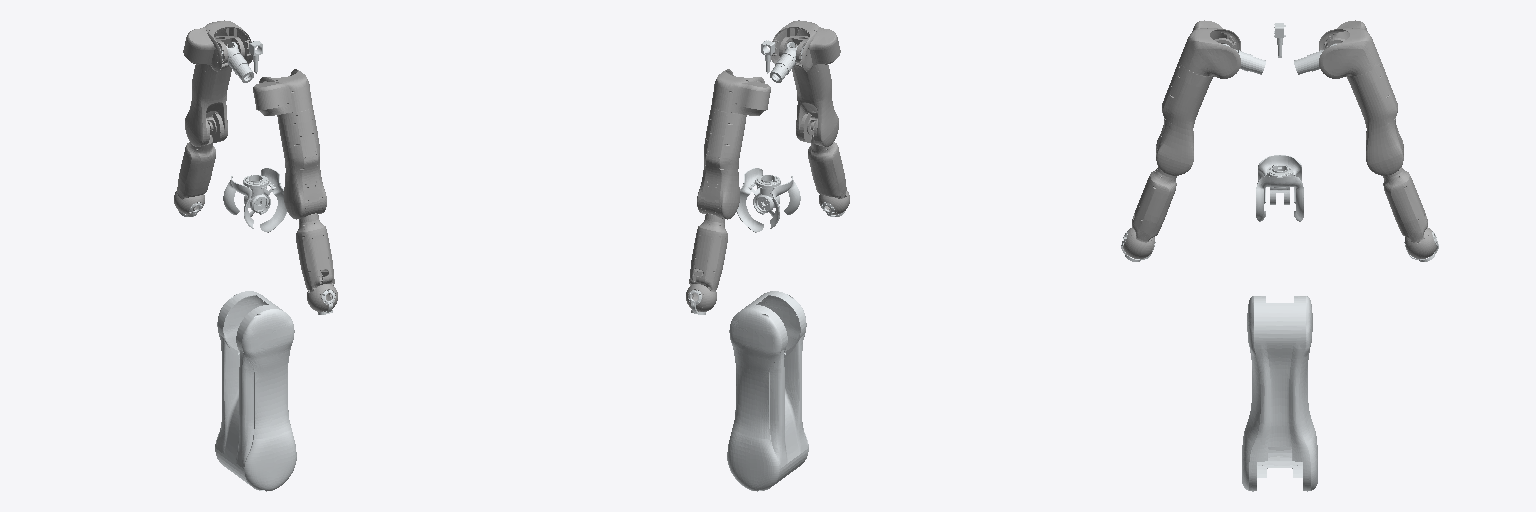
robot.urdf — astribot_whole_body:
<?xml version="1.0" ?>
<!-- =================================================================================== -->
<!-- |    This document was autogenerated by xacro from astribot_s1_whole_body_without_wheel.xacro | -->
<!-- |    EDITING THIS FILE BY HAND IS NOT RECOMMENDED                                 | -->
<!-- =================================================================================== -->
<!-- run: xacro astribot_s1_whole_body.xacro -o astribot_s1_whole_body.urdf to generate the following .urdf file -->
<robot name="astribot_whole_body">
  <link name="astribot_torso_base">
    <inertial>
      <origin rpy="0 0 0" xyz="-0.062784 0.007017 0.035375"/>
      <mass value="39.24781"/>
      <inertia ixx="1.071997" ixy="0.015889" ixz="-0.058447" iyy="1.218431" iyz="-0.002015" izz="1.489411"/>
    </inertial>
    <visual>
      <origin rpy="0 0 0" xyz="0 0 0"/>
      <geometry>
        <mesh filename="s1_torso/astribot_torso_base_link.STL"/>
      </geometry>
      <material name="">
        <color rgba="0.79216 0.81961 0.93333 1"/>
      </material>
    </visual>
    <collision>
      <origin rpy="0 0 0" xyz="0 0 -0.05"/>
      <geometry>
        <cylinder length="0.1" radius="0.3"/>
      </geometry>
    </collision>
  </link>
  <link name="astribot_torso_link_1">
    <inertial>
      <origin rpy="0 0 0" xyz="-0.15249 0.00021066 -0.0033476"/>
      <mass value="7.3766"/>
      <inertia ixx="0.028834" ixy="-0.0052759" ixz="0.00010767" iyy="0.1483" iyz="1.1652E-05" izz="0.14268"/>
    </inertial>
    <visual>
      <origin rpy="0 0 0" xyz="0 0 0"/>
      <geometry>
        <mesh filename="s1_torso/astribot_torso_link_1.STL"/>
      </geometry>
      <material name="">
        <color rgba="0.89804 0.91765 0.92941 1"/>
      </material>
    </visual>
    <collision>
      <origin rpy="0 1.57 0" xyz="-0.15 0 0"/>
      <geometry>
        <cylinder length="0.3" radius="0.1"/>
      </geometry>
    </collision>
  </link>
  <joint name="astribot_torso_joint_1" type="revolute">
    <origin rpy="-1.5708 1.5708 0" xyz="0 0 0.12"/>
    <parent link="astribot_torso_base"/>
    <child link="astribot_torso_link_1"/>
    <axis xyz="0 0 1"/>
    <limit effort="100" lower="0.0" upper="1.4" velocity="6.0"/>
  </joint>
  <link name="astribot_torso_link_2">
    <inertial>
      <origin rpy="0 0 0" xyz="-0.22214 0.028873 0.00059024"/>
      <mass value="5.6183"/>
      <inertia ixx="0.0082545" ixy="0.0011523" ixz="0.00035614" iyy="0.012677" iyz="-5.8287E-05" izz="0.017512"/>
    </inertial>
    <visual>
      <origin rpy="0 0 0" xyz="0 0 0"/>
      <geometry>
        <mesh filename="s1_torso/astribot_torso_link_2.STL"/>
      </geometry>
      <material name="">
        <color rgba="0.89804 0.91765 0.92941 1"/>
      </material>
    </visual>
    <collision>
      <origin rpy="0 1.57 -0.25" xyz="-0.15 0.03 0"/>
      <geometry>
        <cylinder length="0.3" radius="0.1"/>
      </geometry>
    </collision>
  </link>
  <joint name="astribot_torso_joint_2" type="revolute">
    <origin rpy="0 0 0" xyz="-0.38 0 0"/>
    <parent link="astribot_torso_link_1"/>
    <child link="astribot_torso_link_2"/>
    <axis xyz="0 0 1"/>
    <limit effort="100" lower="-2.3" upper="0.0" velocity="6.0"/>
  </joint>
  <link name="astribot_torso_link_3">
    <inertial>
      <origin rpy="0 0 0" xyz="-0.017519 0.00059523 0.00025821"/>
      <mass value="0.49013"/>
      <inertia ixx="0.00022212" ixy="-2.6767E-07" ixz="4.3987E-07" iyy="0.00036522" iyz="3.8834E-07" izz="0.00038039"/>
    </inertial>
    <visual>
      <origin rpy="0 0 0" xyz="0 0 0"/>
      <geometry>
        <mesh filename="s1_torso/astribot_torso_link_3.STL"/>
      </geometry>
      <material name="">
        <color rgba="0.89804 0.91765 0.92941 1"/>
      </material>
    </visual>
    <collision>
      <origin rpy="0 1.57 0" xyz="-0.18 0.01 0"/>
      <geometry>
        <cylinder length="0.35" radius="0.09"/>
      </geometry>
    </collision>
  </link>
  <joint name="astribot_torso_joint_3" type="revolute">
    <origin rpy="0 0 0" xyz="-0.390 0 0"/>
    <parent link="astribot_torso_link_2"/>
    <child link="astribot_torso_link_3"/>
    <axis xyz="0 0 1"/>
    <limit effort="100" lower="0.0" upper="2.3" velocity="6.0"/>
  </joint>
  <link name="astribot_torso_link_4">
    <inertial>
      <origin rpy="0 0 0" xyz="0.00476227191516749 -4.56966810241128E-05 0.242912573510671"/>
      <mass value="8.385"/>
      <inertia ixx="0.0165768322563514" ixy="-9.94098112646385E-06" ixz="-0.000100011483384926" iyy="0.014904355097835" iyz="9.86752047032885E-07" izz="0.0110629318711333"/>
    </inertial>
    <visual>
      <origin rpy="0 0 0" xyz="0 0 0"/>
      <geometry>
        <mesh filename="s1_torso/astribot_torso_link_4.STL"/>
      </geometry>
      <material name="">
        <color rgba="0.898039215686275 0.917647058823529 0.929411764705882 1"/>
      </material>
    </visual>
  </link>
  <joint name="astribot_torso_joint_4" type="revolute">
    <origin rpy="1.5708 0 -1.5708" xyz="0 0 0"/>
    <parent link="astribot_torso_link_3"/>
    <child link="astribot_torso_link_4"/>
    <axis xyz="0 0 1"/>
    <limit effort="100" lower="-1.5" upper="1.5" velocity="6.0"/>
  </joint>
  <link name="astribot_head_link_1">
    <inertial>
      <origin rpy="0 0 0" xyz="0.00003191 -0.00038566 -0.02579910"/>
      <mass value="0.13910581"/>
      <inertia ixx="0.00004567" ixy="0.00000003" ixz="0.00000004" iyy="0.00004789" iyz="-0.00000091" izz="0.00003779"/>
    </inertial>
    <visual>
      <origin rpy="0 0 0" xyz="0 0 0"/>
      <geometry>
        <mesh filename="s1_head/astribot_head_link_1.STL"/>
      </geometry>
      <material name="">
        <color rgba="0.898039215686275 0.917647058823529 0.929411764705882 1"/>
      </material>
    </visual>
  </link>
  <joint name="astribot_head_joint_1" type="revolute">
    <origin rpy="0 0 0" xyz="0 0 0.46765"/>
    <parent link="astribot_torso_link_4"/>
    <child link="astribot_head_link_1"/>
    <axis xyz="0 0 1"/>
    <limit effort="100" lower="-1.57" upper="1.57" velocity="4.0"/>
  </joint>
  <link name="astribot_head_link_2">
    <inertial>
      <origin rpy="0 0 0" xyz="0.00705824 -0.14472601 -0.00061724"/>
      <mass value="0.97012447"/>
      <inertia ixx="0.00555660" ixy="-0.00041600" ixz="-0.00000036" iyy="0.00151908" iyz="-0.00012043" izz="0.00544493"/>
    </inertial>
    <visual>
      <origin rpy="0 0 0" xyz="0 0 0"/>
      <geometry>
        <mesh filename="s1_head/astribot_head_link_2.STL"/>
      </geometry>
      <material name="">
        <color rgba="0.807843137254902 0.843137254901961 0.905882352941176 1"/>
      </material>
    </visual>
    <collision>
      <origin rpy="0 0 0" xyz="0 -0.15 0"/>
      <geometry>
        <sphere radius="0.11"/>
      </geometry>
    </collision>
  </link>
  <joint name="astribot_head_joint_2" type="revolute">
    <origin rpy="-1.5708 0 0" xyz="0 0 0"/>
    <parent link="astribot_head_link_1"/>
    <child link="astribot_head_link_2"/>
    <axis xyz="0 0 1"/>
    <limit effort="100" lower="-1.22" upper="1.22" velocity="4.0"/>
  </joint>
  <link name="astribot_arm_left_link_1">
    <inertial>
      <origin rpy="0 0 0" xyz="0.00012026 0.00047499 -0.05682561"/>
      <mass value="0.59936716"/>
      <inertia ixx="0.00064791" ixy="0.00000149" ixz="0.00000133" iyy="0.00065264" iyz="0.00000160" izz="0.00050137"/>
    </inertial>
    <visual>
      <origin rpy="0 0 0" xyz="0 0 0"/>
      <geometry>
        <mesh filename="s1_arm/astribot_arm_link_1.STL"/>
      </geometry>
      <material name="">
        <color rgba="0.898039215686275 0.917647058823529 0.929411764705882 1"/>
      </material>
    </visual>
  </link>
  <joint name="astribot_arm_left_joint_1" type="revolute">
    <origin rpy="0 -1.22173 -1.5708" xyz="0 0.150002 0.399354"/>
    <parent link="astribot_torso_link_4"/>
    <child link="astribot_arm_left_link_1"/>
    <axis xyz="0 0 1"/>
    <limit effort="265" lower="-3.0" upper="3.0" velocity="8.4"/>
  </joint>
  <link name="astribot_arm_left_link_2">
    <inertial>
      <origin rpy="0 0 0" xyz="-0.00396228 0.03490708 0.04270156"/>
      <mass value="1.43694657"/>
      <inertia ixx="0.00360751" ixy="-0.00009193" ixz="0.00007764" iyy="0.00283747" iyz="0.00054945" izz="0.00172927"/>
    </inertial>
    <visual>
      <origin rpy="0 0 0" xyz="0 0 0"/>
      <geometry>
        <mesh filename="s1_arm/astribot_arm_left_link_2.STL"/>
      </geometry>
      <material name="">
        <color rgba="0.698039215686274 0.698039215686274 0.698039215686274 1"/>
      </material>
    </visual>
  </link>
  <joint name="astribot_arm_left_joint_2" type="revolute">
    <origin rpy="1.5708 0 0" xyz="0 0 0"/>
    <parent link="astribot_arm_left_link_1"/>
    <child link="astribot_arm_left_link_2"/>
    <axis xyz="0 0 1"/>
    <limit effort="265" lower="-1.4" upper="0.4" velocity="8.4"/>
  </joint>
  <link name="astribot_arm_left_link_3">
    <inertial>
      <origin rpy="0 0 0" xyz="0.00531263 0.00020707 0.16136713"/>
      <mass value="2.0926399"/>
      <inertia ixx="0.01752179" ixy="2.336e-05" ixz="0.00144018" iyy="0.01784671" iyz="-3.027e-05" izz="0.0021843"/>
    </inertial>
    <visual>
      <origin rpy="0 0 0" xyz="0 0 0"/>
      <geometry>
        <mesh filename="s1_arm/astribot_arm_link_3.STL"/>
      </geometry>
      <material name="">
        <color rgba="0.698039215686274 0.698039215686274 0.698039215686274 1"/>
      </material>
    </visual>
    <collision>
      <origin rpy="0 0 0" xyz="0 0 0.15"/>
      <geometry>
        <cylinder length="0.18" radius="0.05"/>
      </geometry>
    </collision>
  </link>
  <joint name="astribot_arm_left_joint_3" type="revolute">
    <origin rpy="1.5708 0 -1.5708" xyz="0 0.05 0"/>
    <parent link="astribot_arm_left_link_2"/>
    <child link="astribot_arm_left_link_3"/>
    <axis xyz="0 0 1"/>
    <limit effort="132" lower="-3.0" upper="1.4" velocity="8.4"/>
  </joint>
  <link name="astribot_arm_left_link_4">
    <inertial>
      <origin rpy="0 0 0" xyz="0.00017294 -0.01269315 0.00196140"/>
      <mass value="0.36587933"/>
      <inertia ixx="0.00047693" ixy="0.00000635" ixz=" 0.00000135" iyy="0.00036801" iyz="0.00000705" izz="0.00050082"/>
    </inertial>
    <visual>
      <origin rpy="0 0 0" xyz="0 0 0"/>
      <geometry>
        <mesh filename="s1_arm/astribot_arm_link_4.STL"/>
      </geometry>
      <material name="">
        <color rgba="0.698039215686274 0.698039215686274 0.698039215686274 1"/>
      </material>
    </visual>
    <collision>
      <origin rpy="0 0 0" xyz="0 0 0"/>
      <geometry>
        <sphere radius="0.06"/>
      </geometry>
    </collision>
  </link>
  <joint name="astribot_arm_left_joint_4" type="revolute">
    <origin rpy="-1.5708 0 0" xyz="0.03 0 0.309"/>
    <parent link="astribot_arm_left_link_3"/>
    <child link="astribot_arm_left_link_4"/>
    <axis xyz="0 0 1"/>
    <limit effort="142" lower="0.0" upper="2.4" velocity="15"/>
  </joint>
  <link name="astribot_arm_left_link_5">
    <inertial>
      <origin rpy="0 0 0" xyz="-0.00032037 -0.00015185 0.15370447"/>
      <mass value="1.24085064"/>
      <inertia ixx="0.00454092" ixy="1.58e-06" ixz="-5.91e-06" iyy="0.00438922" iyz="-4.927e-05" izz="0.00079442"/>
    </inertial>
    <visual>
      <origin rpy="0 0 0" xyz="0 0 0"/>
      <geometry>
        <mesh filename="s1_arm/astribot_arm_link_5.STL"/>
      </geometry>
      <material name="">
        <color rgba="0.698039215686274 0.698039215686274 0.698039215686274 1"/>
      </material>
    </visual>
    <collision>
      <origin rpy="0 0 0" xyz="0 0 0.14"/>
      <geometry>
        <cylinder length="0.14" radius="0.05"/>
      </geometry>
    </collision>
  </link>
  <joint name="astribot_arm_left_joint_5" type="revolute">
    <origin rpy="1.5708 0 0" xyz="0 0 0"/>
    <parent link="astribot_arm_left_link_4"/>
    <child link="astribot_arm_left_link_5"/>
    <axis xyz="0 0 1"/>
    <limit effort="71" lower="-2.0" upper="2.0" velocity="15"/>
  </joint>
  <link name="astribot_arm_left_link_6">
    <inertial>
      <origin rpy="0 0 0" xyz="-0.00010311 0.00001218 0.00013181"/>
      <mass value="0.22465307"/>
      <inertia ixx="0.00016474" ixy="0.00000007" ixz="0.00000025" iyy="0.00015608" iyz="0.00000018" izz="0.00008555"/>
    </inertial>
    <visual>
      <origin rpy="0 0 0" xyz="0 0 0"/>
      <geometry>
        <mesh filename="s1_arm/astribot_arm_link_6.STL"/>
      </geometry>
      <material name="">
        <color rgba="0.698039215686274 0.698039215686274 0.698039215686274 1"/>
      </material>
    </visual>
  </link>
  <joint name="astribot_arm_left_joint_6" type="revolute">
    <origin rpy="-1.5708 0 0" xyz="0 0 0.277"/>
    <parent link="astribot_arm_left_link_5"/>
    <child link="astribot_arm_left_link_6"/>
    <axis xyz="0 0 1"/>
    <limit effort="20" lower="-0.6" upper="0.6" velocity="16.8"/>
  </joint>
  <link name="astribot_arm_left_link_7">
    <inertial>
      <origin rpy="0 0 0" xyz="4.333e-05 -0.00723447 -0.00362428"/>
      <mass value="0.12772019"/>
      <inertia ixx="0.00013672" ixy="1.6e-07" ixz="-2.4e-07" iyy="0.00010783" iyz="-3.35e-06" izz="5.858e-05"/>
    </inertial>
    <visual>
      <origin rpy="0 0 0" xyz="0 0 0"/>
      <geometry>
        <mesh filename="s1_arm/astribot_arm_link_7.STL"/>
      </geometry>
      <material name="">
        <color rgba="0.898039215686275 0.917647058823529 0.929411764705882 1"/>
      </material>
    </visual>
    <collision>
      <origin rpy="0 0 0" xyz="0.006 0 0"/>
      <geometry>
        <sphere radius="0.05"/>
      </geometry>
    </collision>
  </link>
  <joint name="astribot_arm_left_joint_7" type="revolute">
    <origin rpy="0 1.5708 0" xyz="0 0 0"/>
    <parent link="astribot_arm_left_link_6"/>
    <child link="astribot_arm_left_link_7"/>
    <axis xyz="0 0 1"/>
    <limit effort="20" lower="-1.4" upper="1.4" velocity="16.8"/>
  </joint>
  <link name="astribot_arm_right_link_1">
    <inertial>
      <origin rpy="0 0 0" xyz="0.00012026 0.00047499 -0.05682561"/>
      <mass value="0.59936716"/>
      <inertia ixx="0.00064791" ixy="0.00000149" ixz="0.00000133" iyy="0.00065264" iyz="0.00000160" izz="0.00050137"/>
    </inertial>
    <visual>
      <origin rpy="0 0 0" xyz="0 0 0"/>
      <geometry>
        <mesh filename="s1_arm/astribot_arm_link_1.STL"/>
      </geometry>
      <material name="">
        <color rgba="0.898039215686275 0.917647058823529 0.929411764705882 1"/>
      </material>
    </visual>
  </link>
  <joint name="astribot_arm_right_joint_1" type="revolute">
    <origin rpy="0 -1.22173 1.5708" xyz="0 -0.150002 0.399354"/>
    <parent link="astribot_torso_link_4"/>
    <child link="astribot_arm_right_link_1"/>
    <axis xyz="0 0 1"/>
    <limit effort="265" lower="-3.0" upper="3.0" velocity="8.4"/>
  </joint>
  <link name="astribot_arm_right_link_2">
    <inertial>
      <origin rpy="0 0 0" xyz="-0.00384709 0.03502105 -0.04050705"/>
      <mass value="1.45811037"/>
      <inertia ixx="0.00394196" ixy="-8.846e-05" ixz="-3.742e-05" iyy="0.00316298" iyz="-0.0007079" izz="0.00177295"/>
    </inertial>
    <visual>
      <origin rpy="0 0 0" xyz="0 0 0"/>
      <geometry>
        <mesh filename="s1_arm/astribot_arm_right_link_2.STL"/>
      </geometry>
      <material name="">
        <color rgba="0.698039215686274 0.698039215686274 0.698039215686274 1"/>
      </material>
    </visual>
  </link>
  <joint name="astribot_arm_right_joint_2" type="revolute">
    <origin rpy="1.5708 0 0" xyz="0 0 0"/>
    <parent link="astribot_arm_right_link_1"/>
    <child link="astribot_arm_right_link_2"/>
    <axis xyz="0 0 1"/>
    <limit effort="265" lower="-1.4" upper="0.4" velocity="8.4"/>
  </joint>
  <link name="astribot_arm_right_link_3">
    <inertial>
      <origin rpy="0 0 0" xyz="0.00531263 0.00020707 0.16136713"/>
      <mass value="2.0926399"/>
      <inertia ixx="0.01752179" ixy="2.336e-05" ixz="0.00144018" iyy="0.01784671" iyz="-3.027e-05" izz="0.0021843"/>
    </inertial>
    <visual>
      <origin rpy="0 0 0" xyz="0 0 0"/>
      <geometry>
        <mesh filename="s1_arm/astribot_arm_link_3.STL"/>
      </geometry>
      <material name="">
        <color rgba="0.698039215686274 0.698039215686274 0.698039215686274 1"/>
      </material>
    </visual>
    <collision>
      <origin rpy="0 0 0" xyz="0 0 0.15"/>
      <geometry>
        <cylinder length="0.18" radius="0.05"/>
      </geometry>
    </collision>
  </link>
  <joint name="astribot_arm_right_joint_3" type="revolute">
    <origin rpy="1.5708 0 -1.5708" xyz="0 0.05 0"/>
    <parent link="astribot_arm_right_link_2"/>
    <child link="astribot_arm_right_link_3"/>
    <axis xyz="0 0 1"/>
    <limit effort="132" lower="-1.4" upper="3.0" velocity="8.4"/>
  </joint>
  <link name="astribot_arm_right_link_4">
    <inertial>
      <origin rpy="0 0 0" xyz="0.00017294 -0.01269315 0.00196140"/>
      <mass value="0.36587933"/>
      <inertia ixx="0.00047693" ixy="0.00000635" ixz=" 0.00000135" iyy="0.00036801" iyz="0.00000705" izz="0.00050082"/>
    </inertial>
    <visual>
      <origin rpy="0 0 0" xyz="0 0 0"/>
      <geometry>
        <mesh filename="s1_arm/astribot_arm_link_4.STL"/>
      </geometry>
      <material name="">
        <color rgba="0.698039215686274 0.698039215686274 0.698039215686274 1"/>
      </material>
    </visual>
    <collision>
      <origin rpy="0 0 0" xyz="0 0 0"/>
      <geometry>
        <sphere radius="0.06"/>
      </geometry>
    </collision>
  </link>
  <joint name="astribot_arm_right_joint_4" type="revolute">
    <origin rpy="-1.5708 0 0" xyz="0.03 0 0.309"/>
    <parent link="astribot_arm_right_link_3"/>
    <child link="astribot_arm_right_link_4"/>
    <axis xyz="0 0 1"/>
    <limit effort="142" lower="0.0" upper="2.4" velocity="15"/>
  </joint>
  <link name="astribot_arm_right_link_5">
    <inertial>
      <origin rpy="0 0 0" xyz="-0.00032037 -0.00015185 0.15370447"/>
      <mass value="1.24085064"/>
      <inertia ixx="0.00454092" ixy="1.58e-06" ixz="-5.91e-06" iyy="0.00438922" iyz="-4.927e-05" izz="0.00079442"/>
    </inertial>
    <visual>
      <origin rpy="0 0 0" xyz="0 0 0"/>
      <geometry>
        <mesh filename="s1_arm/astribot_arm_link_5.STL"/>
      </geometry>
      <material name="">
        <color rgba="0.698039215686274 0.698039215686274 0.698039215686274 1"/>
      </material>
    </visual>
    <collision>
      <origin rpy="0 0 0" xyz="0 0 0.14"/>
      <geometry>
        <cylinder length="0.14" radius="0.05"/>
      </geometry>
    </collision>
  </link>
  <joint name="astribot_arm_right_joint_5" type="revolute">
    <origin rpy="1.5708 0 0" xyz="0 0 0"/>
    <parent link="astribot_arm_right_link_4"/>
    <child link="astribot_arm_right_link_5"/>
    <axis xyz="0 0 1"/>
    <limit effort="71" lower="-2.0" upper="2.0" velocity="15"/>
  </joint>
  <link name="astribot_arm_right_link_6">
    <inertial>
      <origin rpy="0 0 0" xyz="-0.00010311 0.00001218 0.00013181"/>
      <mass value="0.22465307"/>
      <inertia ixx="0.00016474" ixy="0.00000007" ixz="0.00000025" iyy="0.00015608" iyz="0.00000018" izz="0.00008555"/>
    </inertial>
    <visual>
      <origin rpy="0 0 0" xyz="0 0 0"/>
      <geometry>
        <mesh filename="s1_arm/astribot_arm_link_6.STL"/>
      </geometry>
      <material name="">
        <color rgba="0.698039215686274 0.698039215686274 0.698039215686274 1"/>
      </material>
    </visual>
  </link>
  <joint name="astribot_arm_right_joint_6" type="revolute">
    <origin rpy="-1.5708 0 0" xyz="0 0 0.277"/>
    <parent link="astribot_arm_right_link_5"/>
    <child link="astribot_arm_right_link_6"/>
    <axis xyz="0 0 1"/>
    <limit effort="20" lower="-0.6" upper="0.6" velocity="16.8"/>
  </joint>
  <link name="astribot_arm_right_link_7">
    <inertial>
      <origin rpy="0 0 0" xyz="4.333e-05 -0.00723447 -0.00362428"/>
      <mass value="0.12772019"/>
      <inertia ixx="0.00013672" ixy="1.6e-07" ixz="-2.4e-07" iyy="0.00010783" iyz="-3.35e-06" izz="5.858e-05"/>
    </inertial>
    <visual>
      <origin rpy="0 0 0" xyz="0 0 0"/>
      <geometry>
        <mesh filename="s1_arm/astribot_arm_link_7.STL"/>
      </geometry>
      <material name="">
        <color rgba="0.898039215686275 0.917647058823529 0.929411764705882 1"/>
      </material>
    </visual>
    <collision>
      <origin rpy="0 0 0" xyz="0.006 0 0"/>
      <geometry>
        <sphere radius="0.05"/>
      </geometry>
    </collision>
  </link>
  <joint name="astribot_arm_right_joint_7" type="revolute">
    <origin rpy="0 1.5708 0" xyz="0 0 0"/>
    <parent link="astribot_arm_right_link_6"/>
    <child link="astribot_arm_right_link_7"/>
    <axis xyz="0 0 1"/>
    <limit effort="20" lower="-1.4" upper="1.4" velocity="16.8"/>
  </joint>
</robot>

--- Render facts (derived) ---
Views: 3 orthographic renders of the robot side by side, from view 1: azimuth 30°, elevation 25°; view 2: azimuth 150°, elevation 25°; view 3: azimuth 270°, elevation 25°.
Robot: astribot_whole_body — 21 links, 20 joints (20 revolute); root link astribot_torso_base; default pose: all joints at 0.
Links seen in each view (by area): view 1: astribot_torso_link_1, astribot_arm_right_link_3, astribot_arm_left_link_3, astribot_arm_right_link_5, astribot_arm_left_link_2, astribot_torso_link_3, astribot_arm_right_link_2, astribot_arm_left_link_5, astribot_arm_left_link_1; view 2: astribot_torso_link_1, astribot_arm_left_link_3, astribot_arm_right_link_3, astribot_arm_left_link_5, astribot_arm_right_link_2, astribot_torso_link_3, astribot_arm_left_link_2, astribot_arm_right_link_5, astribot_arm_right_link_1; view 3: astribot_torso_link_1, astribot_arm_left_link_3, astribot_arm_right_link_3, astribot_arm_left_link_2, astribot_arm_right_link_2, astribot_arm_left_link_5, astribot_arm_right_link_5, astribot_torso_link_3.
Boxes of the visible links, left/top/right/bottom form: astribot_torso_link_1: left=215, top=291, right=296, bottom=491; astribot_arm_right_link_3: left=277, top=107, right=326, bottom=219; astribot_arm_left_link_3: left=185, top=64, right=231, bottom=146; astribot_arm_right_link_5: left=296, top=219, right=337, bottom=310; astribot_arm_left_link_2: left=183, top=20, right=252, bottom=71; astribot_torso_link_3: left=223, top=168, right=286, bottom=232; astribot_arm_right_link_2: left=253, top=69, right=312, bottom=115; astribot_arm_left_link_5: left=174, top=142, right=215, bottom=213; astribot_arm_left_link_1: left=219, top=42, right=253, bottom=82; astribot_torso_link_1: left=727, top=291, right=808, bottom=491; astribot_arm_left_link_3: left=697, top=107, right=746, bottom=219; astribot_arm_right_link_3: left=792, top=64, right=838, bottom=146; astribot_arm_left_link_5: left=686, top=219, right=727, bottom=310; astribot_arm_right_link_2: left=771, top=20, right=840, bottom=71; astribot_torso_link_3: left=737, top=168, right=800, bottom=232; astribot_arm_left_link_2: left=711, top=69, right=770, bottom=115; astribot_arm_right_link_5: left=808, top=142, right=849, bottom=213; astribot_arm_right_link_1: left=770, top=42, right=804, bottom=82; astribot_torso_link_1: left=1242, top=296, right=1317, bottom=491; astribot_arm_left_link_3: left=1346, top=60, right=1403, bottom=175; astribot_arm_right_link_3: left=1156, top=60, right=1213, bottom=175; astribot_arm_left_link_2: left=1319, top=20, right=1380, bottom=78; astribot_arm_right_link_2: left=1179, top=20, right=1240, bottom=78; astribot_arm_left_link_5: left=1383, top=169, right=1434, bottom=258; astribot_arm_right_link_5: left=1125, top=169, right=1176, bottom=258; astribot_torso_link_3: left=1256, top=155, right=1303, bottom=221.
Bounding box of the posed robot: 0.1943 × 0.8328 × 1.34 m (x, y, z).
17 mesh visuals loaded from 15 distinct referenced files (11 binary STL); not drawn: 4 (reference not matched to a file when rendering).